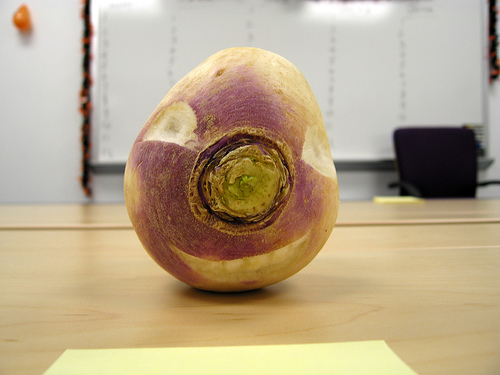turnip: (123, 45, 342, 295)
